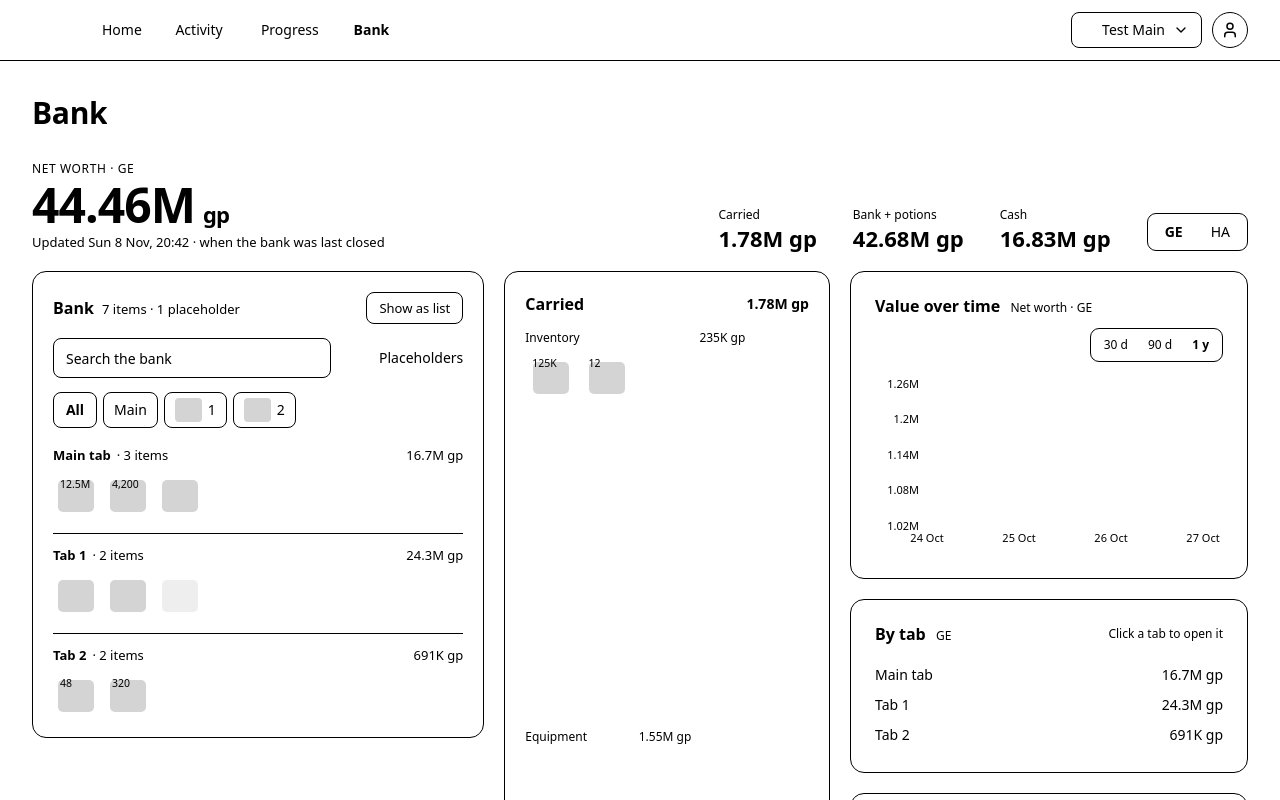
Bank › switches every number, list and chart label between GE and HA
Expected: the text "44.46M" is shown, [32, 172, 195, 237]
Click the radio button labelled "HA".
click(1220, 232)  # box [1197, 218, 1244, 248]
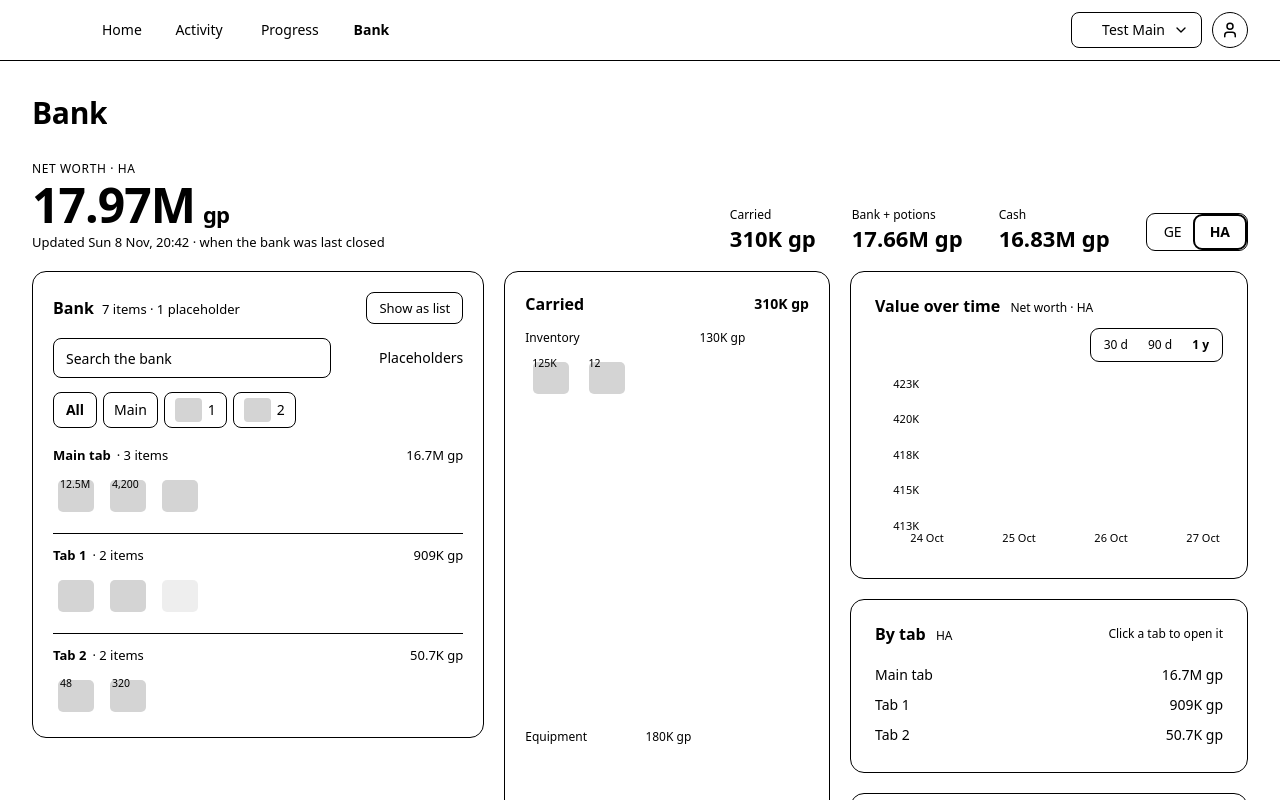
Expected: the text "Net worth · HA" is shown 2 times, [32, 160, 136, 177]; [1010, 300, 1093, 316]
Now the text "44.46M" is gone
Now the text "Net worth · HA" next to "Value over time" is shown, box [1010, 300, 1093, 316]
